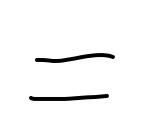eqv: (29, 53, 115, 101)
